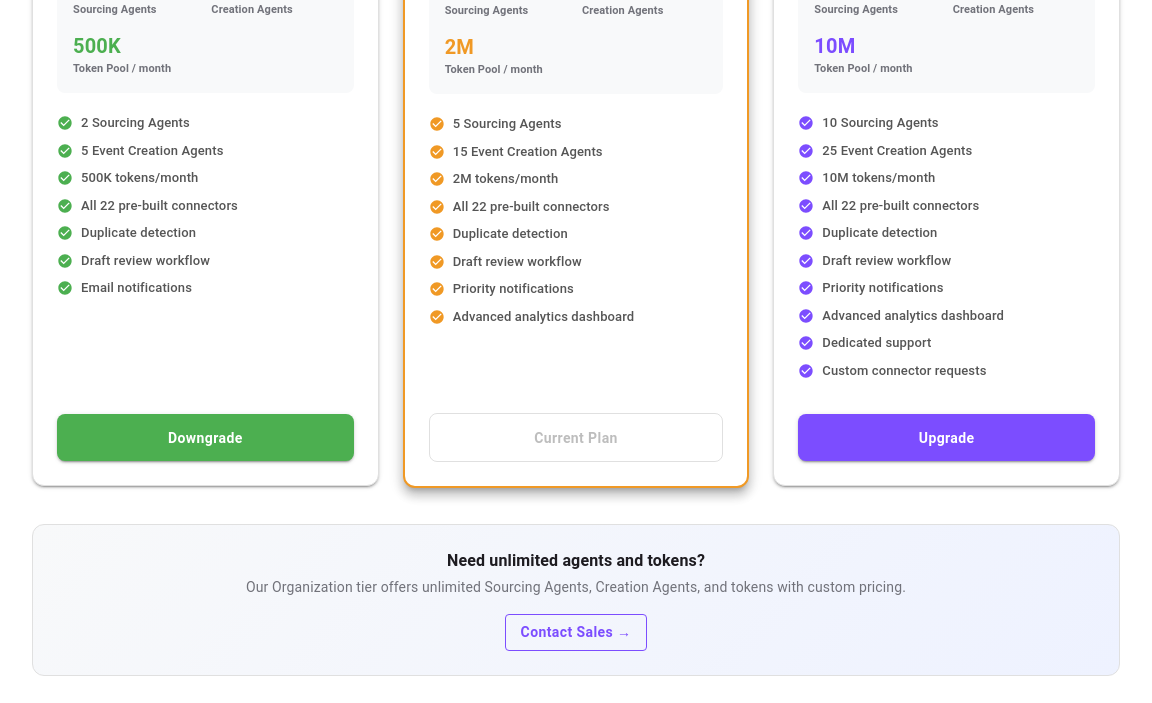
AiAgentSubscribe › shows error message when updateCustomerSubscription fails
(page scrolled)
Expected: the button "Current Plan" is shown, top-left (429, 413), bottom-right (723, 462)
Click the button "Upgrade" at point(947, 438), box top-left (798, 414), bottom-right (1095, 461)
(page scrolled)
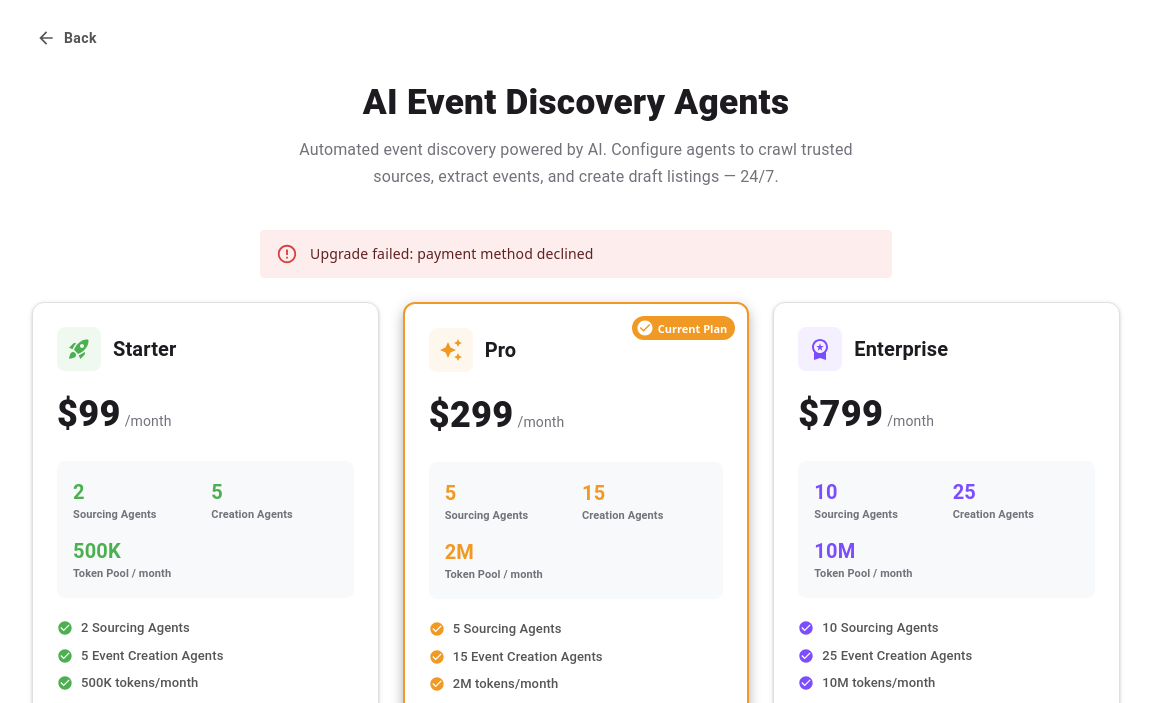
Expected: the text "Upgrade failed: payment method declined" is shown, top-left (310, 244), bottom-right (594, 263)
